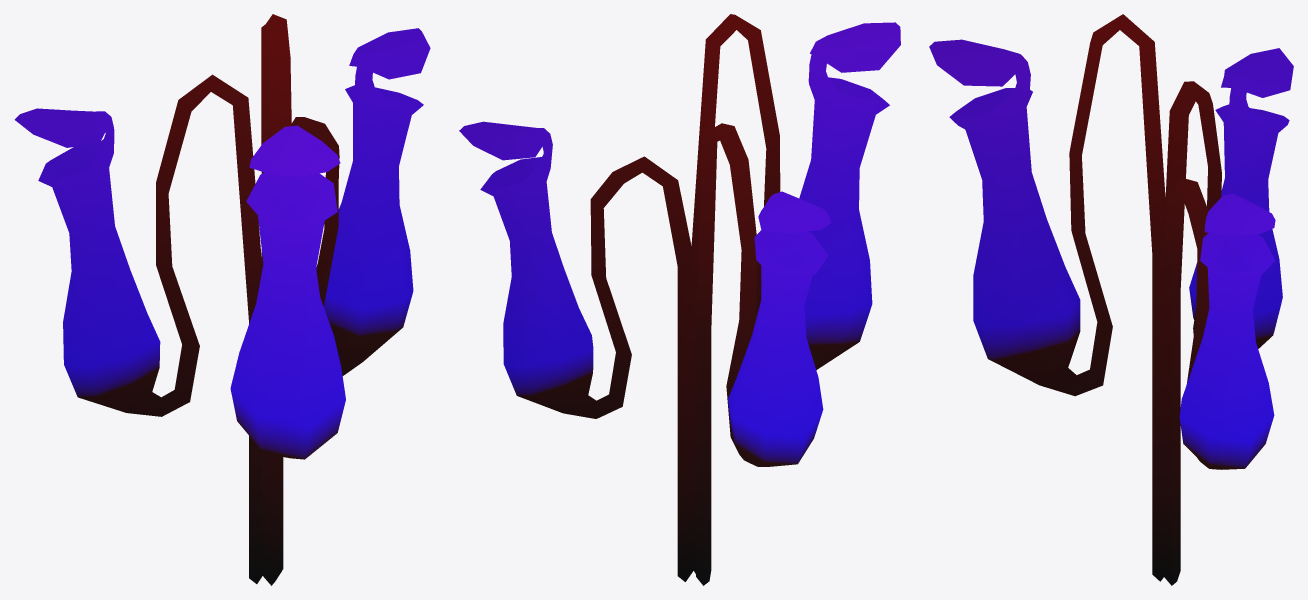
Rendered from SM_Env_Flower_Pitcher_01.gltf.
3 views of the same model, side by side, from view 1: azimuth 30°, elevation 25°; view 2: azimuth 150°, elevation 25°; view 3: azimuth 270°, elevation 25° (orthographic). The views are drawn at different scales.
Parts seen in each view (by area): view 1: SM_Env_Flower_Pitcher_01_LOD0; view 2: SM_Env_Flower_Pitcher_01_LOD0; view 3: SM_Env_Flower_Pitcher_01_LOD0.
Boxes of the visible parts, bbox=[...] form: SM_Env_Flower_Pitcher_01_LOD0: bbox=[14, 14, 430, 585]; SM_Env_Flower_Pitcher_01_LOD0: bbox=[459, 14, 900, 585]; SM_Env_Flower_Pitcher_01_LOD0: bbox=[929, 14, 1293, 585].
Bounding box in the file's own units: 1.79 × 2.55 × 1.51.
